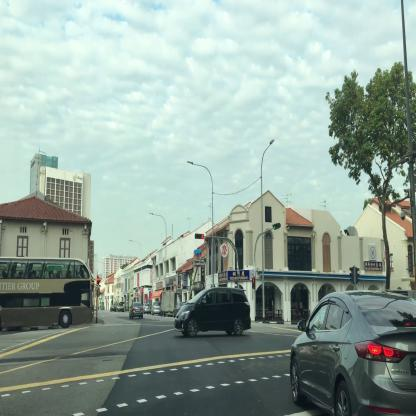red_traffic_light: (196, 234, 204, 238)
